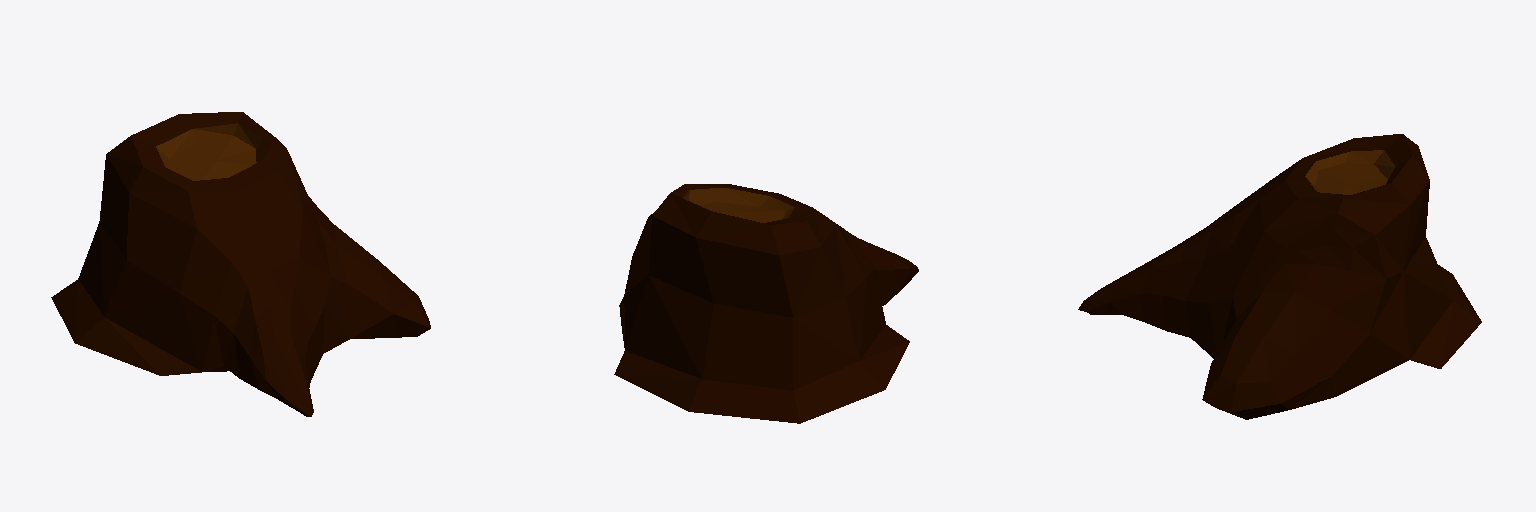
Rendered from log3.obj.
3 views of the same model, side by side, from view 1: azimuth 30°, elevation 25°; view 2: azimuth 150°, elevation 25°; view 3: azimuth 270°, elevation 25° (orthographic).
Visible parts, largest first — view 1: Log_3_Cube.006; view 2: Log_3_Cube.006; view 3: Log_3_Cube.006.
Part boxes in pixels (x1,y1,x2,y2): Log_3_Cube.006: (51,112,430,416); Log_3_Cube.006: (614,184,918,423); Log_3_Cube.006: (1078,134,1481,419).
Size of the model in its own units: 1.72 by 1.05 by 2.01.